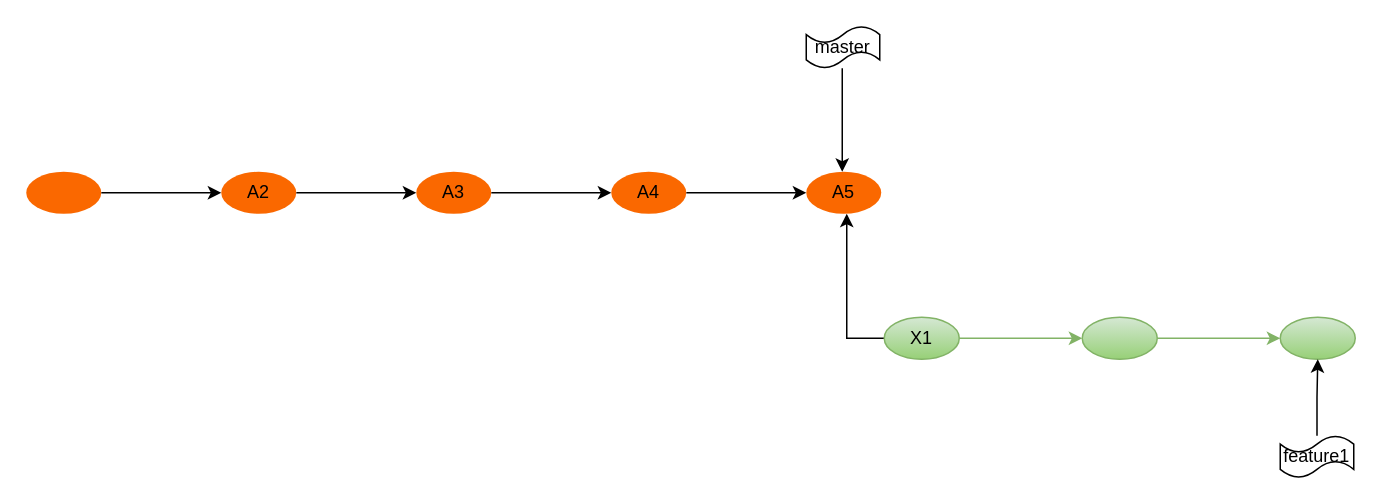
This 1382x504 diagram has some shape labels left out. The shapes that lost their labels are listed below. From the top down, each one's box as (x1, y1, x2, y2) in pixels, then its label:
(26, 171, 100, 213): A1
(1081, 316, 1157, 359): X2
(1279, 316, 1355, 359): X3
